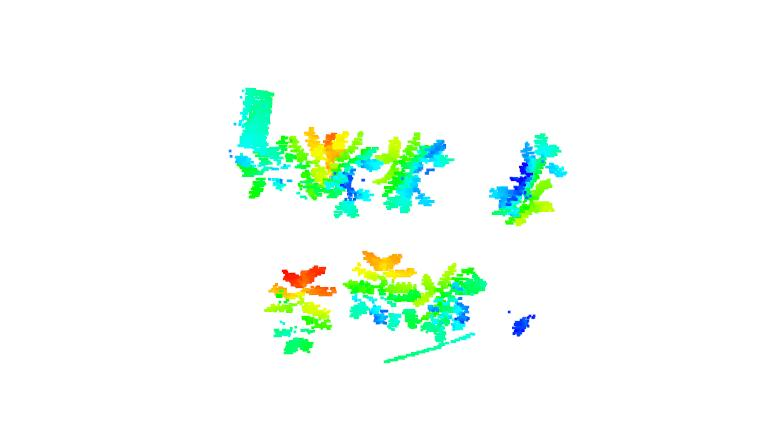chickpea: (486, 132, 568, 225), (234, 127, 329, 203), (375, 131, 457, 216), (413, 261, 489, 345), (265, 265, 335, 356), (347, 249, 417, 330), (321, 130, 382, 220)
